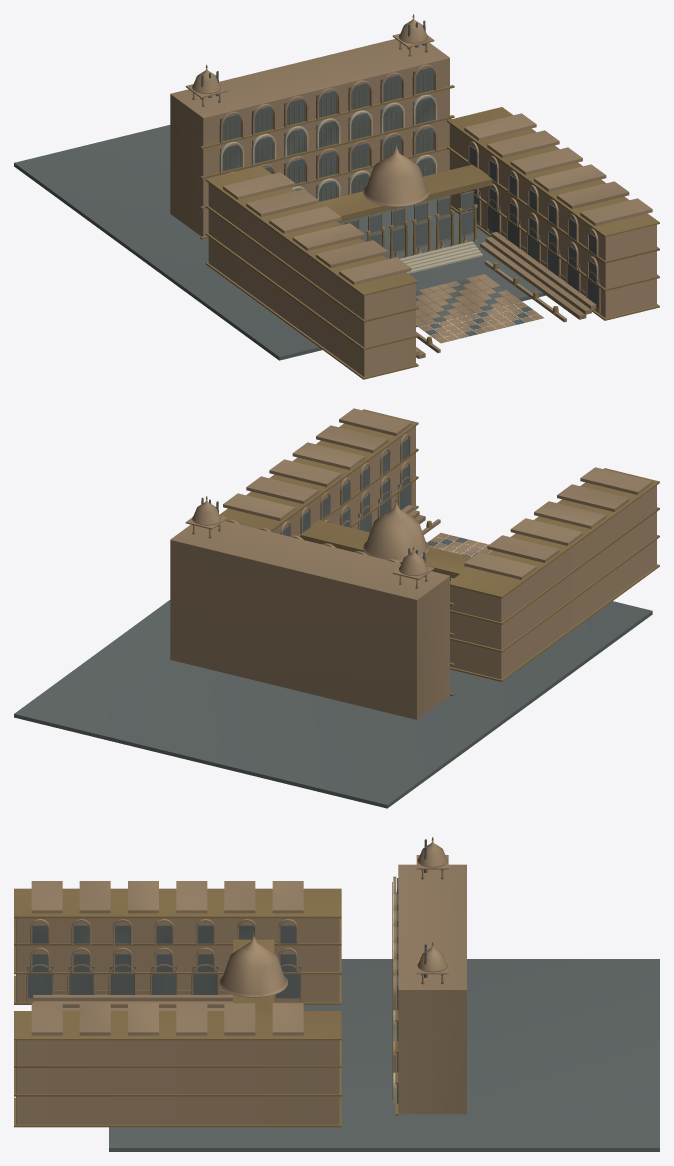
The model's file is arena-70.glb.
The picture shows the model from 3 angles, top to bottom: view 1: azimuth 30°, elevation 25°; view 2: azimuth 150°, elevation 25°; view 3: azimuth 270°, elevation 25°; orthographic projection. The views are drawn at different scales.
Parts seen in each view (by area): view 1: correction-sand, correction-dark, correction-bronze, correction-plaster; view 2: correction-sand, correction-dark, correction-bronze; view 3: correction-sand, correction-dark, correction-bronze.
Boxes of the visible parts, bbox=[...] form: correction-sand: bbox=[170, 17, 656, 376]; correction-dark: bbox=[14, 20, 599, 360]; correction-bronze: bbox=[192, 14, 659, 379]; correction-plaster: bbox=[219, 94, 482, 273]; correction-sand: bbox=[170, 408, 656, 719]; correction-dark: bbox=[14, 438, 652, 808]; correction-bronze: bbox=[192, 409, 659, 695]; correction-sand: bbox=[16, 840, 466, 1124]; correction-dark: bbox=[27, 839, 659, 1151]; correction-bronze: bbox=[14, 837, 443, 1127].
Size of the model in its own units: 65 by 26.86 by 93.8.
